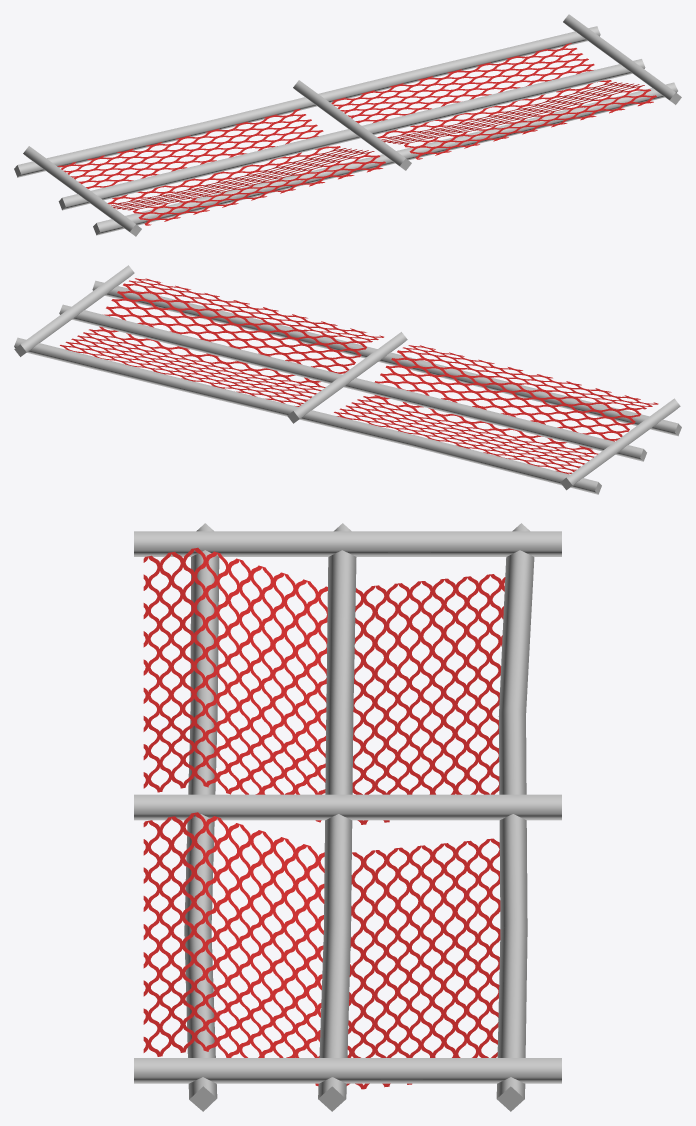
Rendered from fence_net_001.fbx.
3 renders of one model, top to bottom at view 1: azimuth 30°, elevation 25°; view 2: azimuth 150°, elevation 25°; view 3: azimuth 270°, elevation 25°, orthographic. The views are drawn at different scales.
Parts seen in each view (by area): view 1: fence_net_001; view 2: fence_net_001; view 3: fence_net_001.
Boxes of the visible parts, x1=… form: fence_net_001: x1=14, y1=14, x2=681, y2=236; fence_net_001: x1=14, y1=265, x2=681, y2=494; fence_net_001: x1=134, y1=523, x2=561, y2=1111.
Size of the model in its own units: 3.97 by 0.1792 by 1.27.
